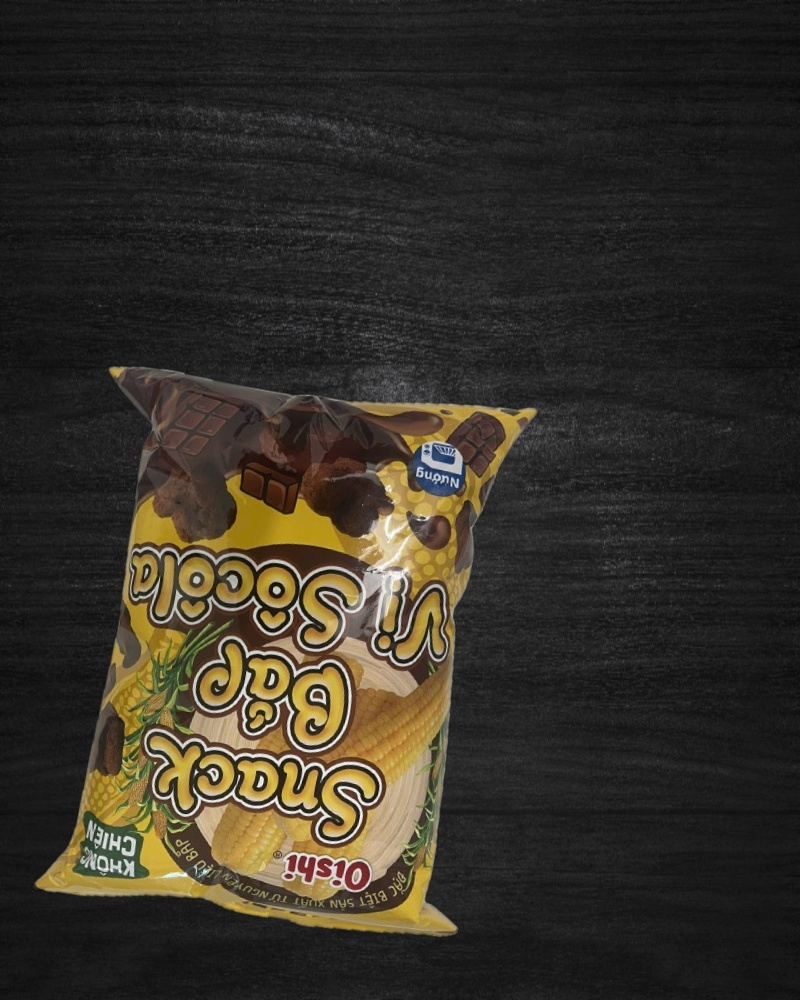Snack socola: (20, 338, 550, 962)
